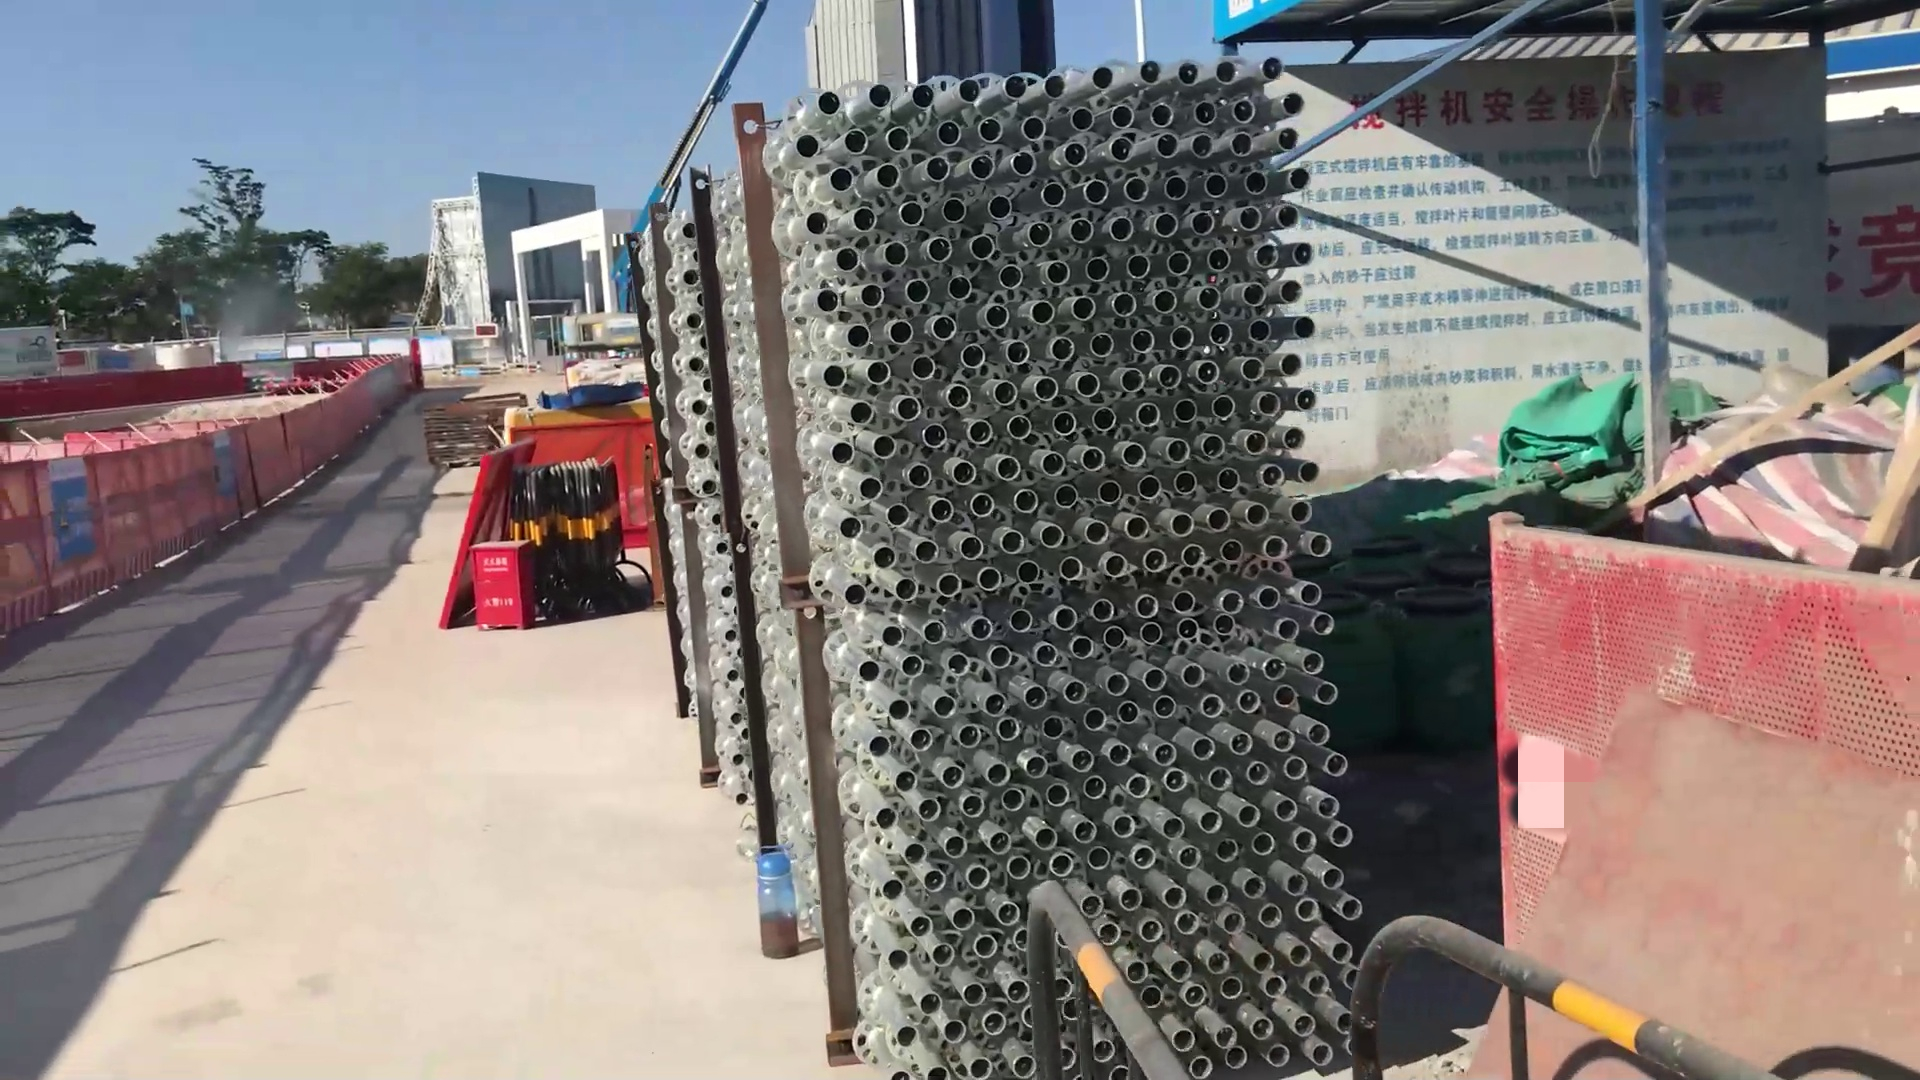fence: (1470, 524, 1920, 1080), (4, 353, 417, 622), (1323, 905, 1770, 1080), (497, 462, 626, 595)
scaffold: (622, 65, 1364, 1076)
